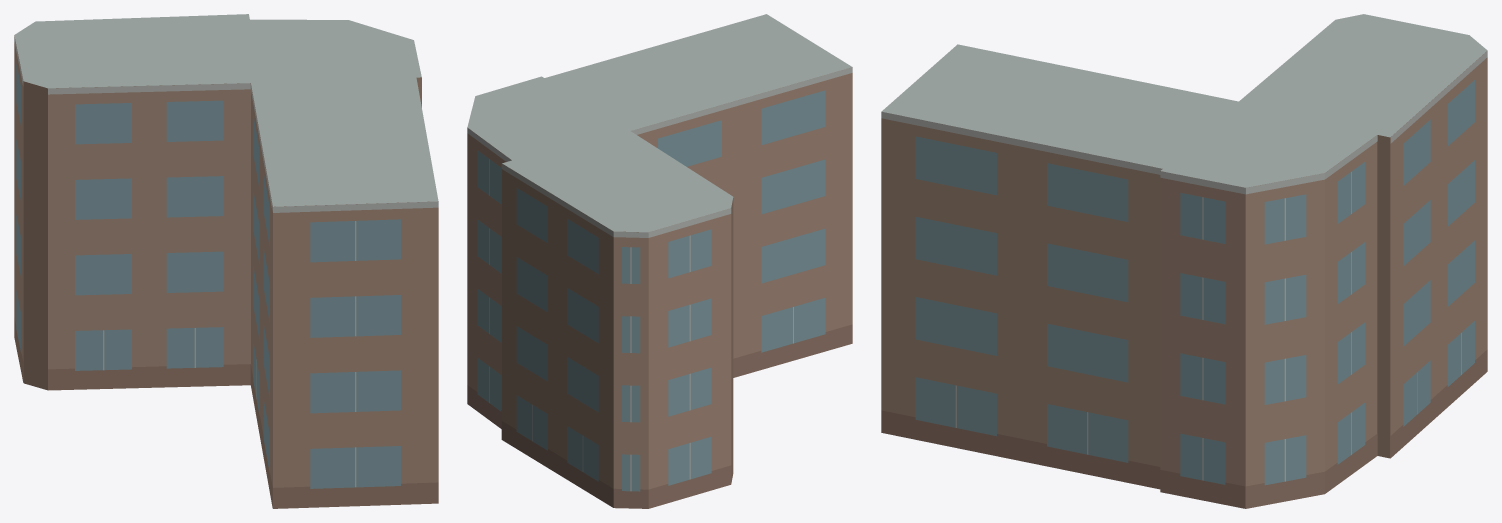
The model's file is survey-upis-32692780.glb.
3 views of the same model, side by side, from view 1: azimuth 30°, elevation 25°; view 2: azimuth 150°, elevation 25°; view 3: azimuth 270°, elevation 25° (orthographic). The views are drawn at different scales.
Visible parts, largest first — view 1: survey-upis-32692780.tmp; view 2: survey-upis-32692780.tmp; view 3: survey-upis-32692780.tmp.
Part boxes in pixels (bbox=[...]): survey-upis-32692780.tmp: bbox=[14, 14, 438, 508]; survey-upis-32692780.tmp: bbox=[467, 14, 852, 508]; survey-upis-32692780.tmp: bbox=[881, 14, 1487, 508].
Bounding box in the file's own units: 13.78 × 11.86 × 20.31.
